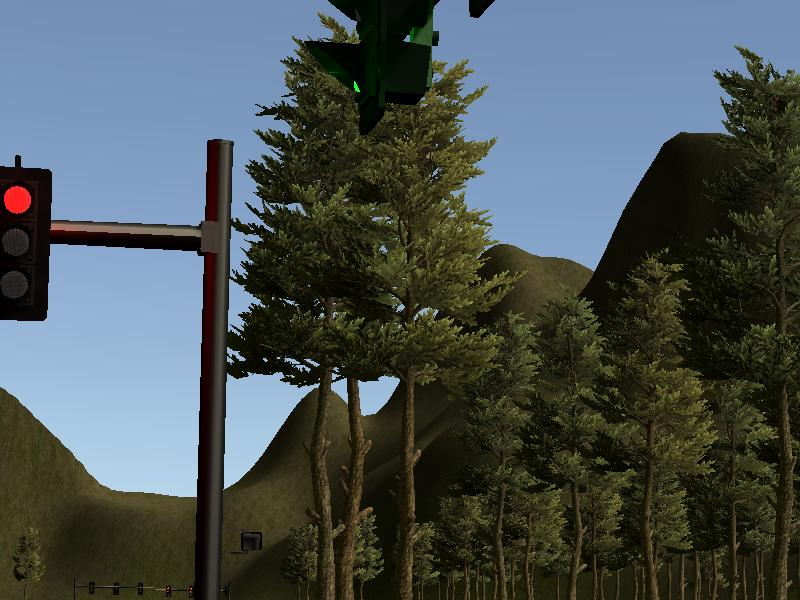Red: (1, 170, 52, 321)
